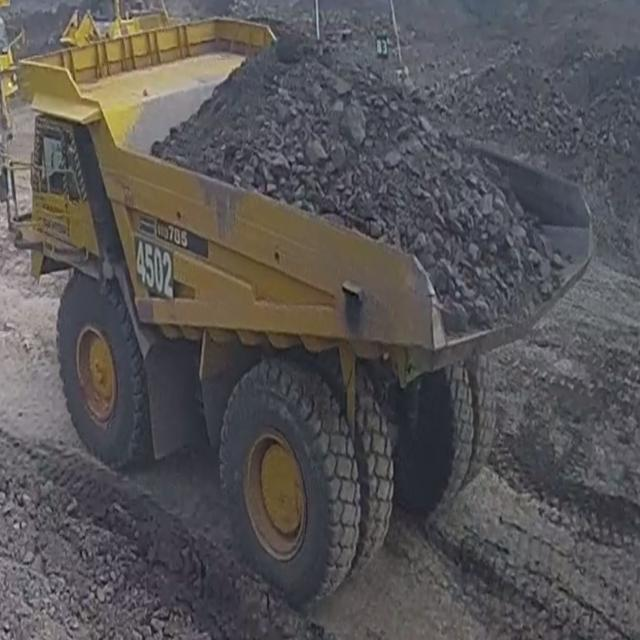dump_truck: (5, 12, 602, 600)
